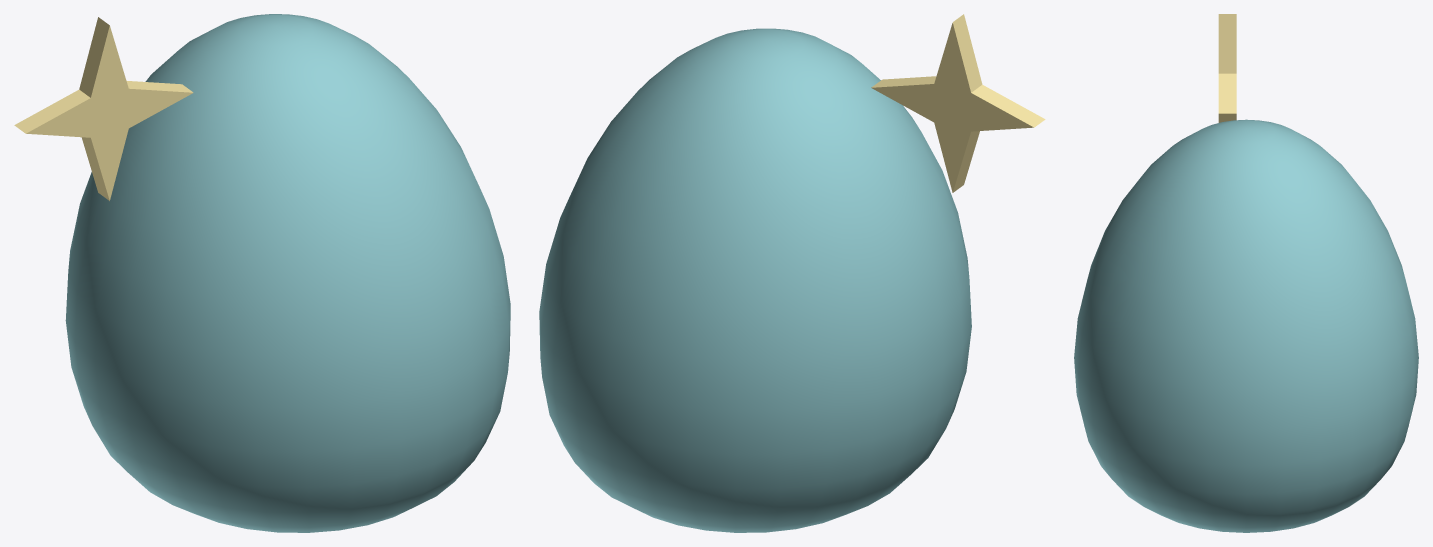
Rendered from Flutter.fbx.
3 views of the same model, side by side, from view 1: azimuth 30°, elevation 25°; view 2: azimuth 150°, elevation 25°; view 3: azimuth 270°, elevation 25° (orthographic). The views are drawn at different scales.
Visible parts, largest first — view 1: Flutter_Outline, Flutter_Motif; view 2: Flutter_Outline, Flutter_Motif; view 3: Flutter_Outline, Flutter_Motif.
Boxes of the visible parts, x1,y1,x2,y2 form: Flutter_Outline: [65, 14, 510, 532]; Flutter_Motif: [14, 17, 193, 200]; Flutter_Outline: [539, 28, 971, 532]; Flutter_Motif: [871, 14, 1045, 192]; Flutter_Outline: [1074, 119, 1418, 532]; Flutter_Motif: [1218, 14, 1236, 122].
Bounding box in the file's own units: 1.13 × 1.22 × 0.92.
